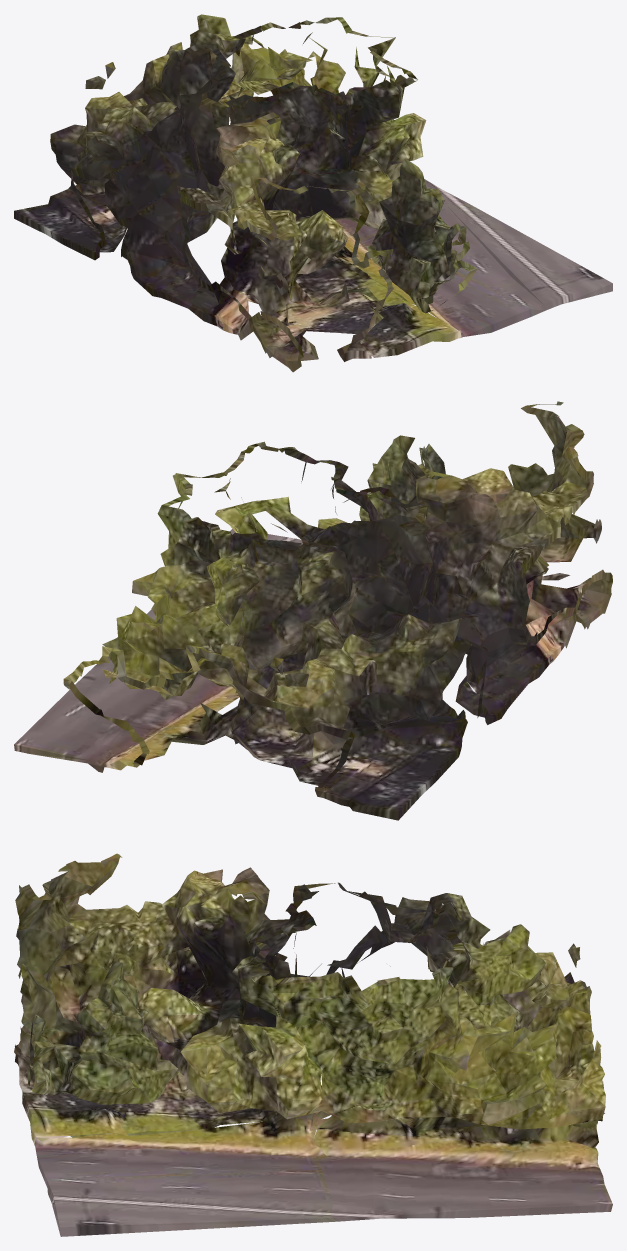
3 views of the same model, one above another, from view 1: azimuth 30°, elevation 25°; view 2: azimuth 150°, elevation 25°; view 3: azimuth 270°, elevation 25° (orthographic). The views are drawn at different scales.
Parts seen in each view (by area): view 1: Mesh_0; view 2: Mesh_0; view 3: Mesh_0.
Part boxes in pixels (bbox=[...]): Mesh_0: bbox=[14, 14, 612, 372]; Mesh_0: bbox=[14, 401, 612, 820]; Mesh_0: bbox=[14, 853, 612, 1236].
Size of the model in its own units: 33.28 by 16.04 by 41.07.
Materials: 1 (1 with a texture image).
